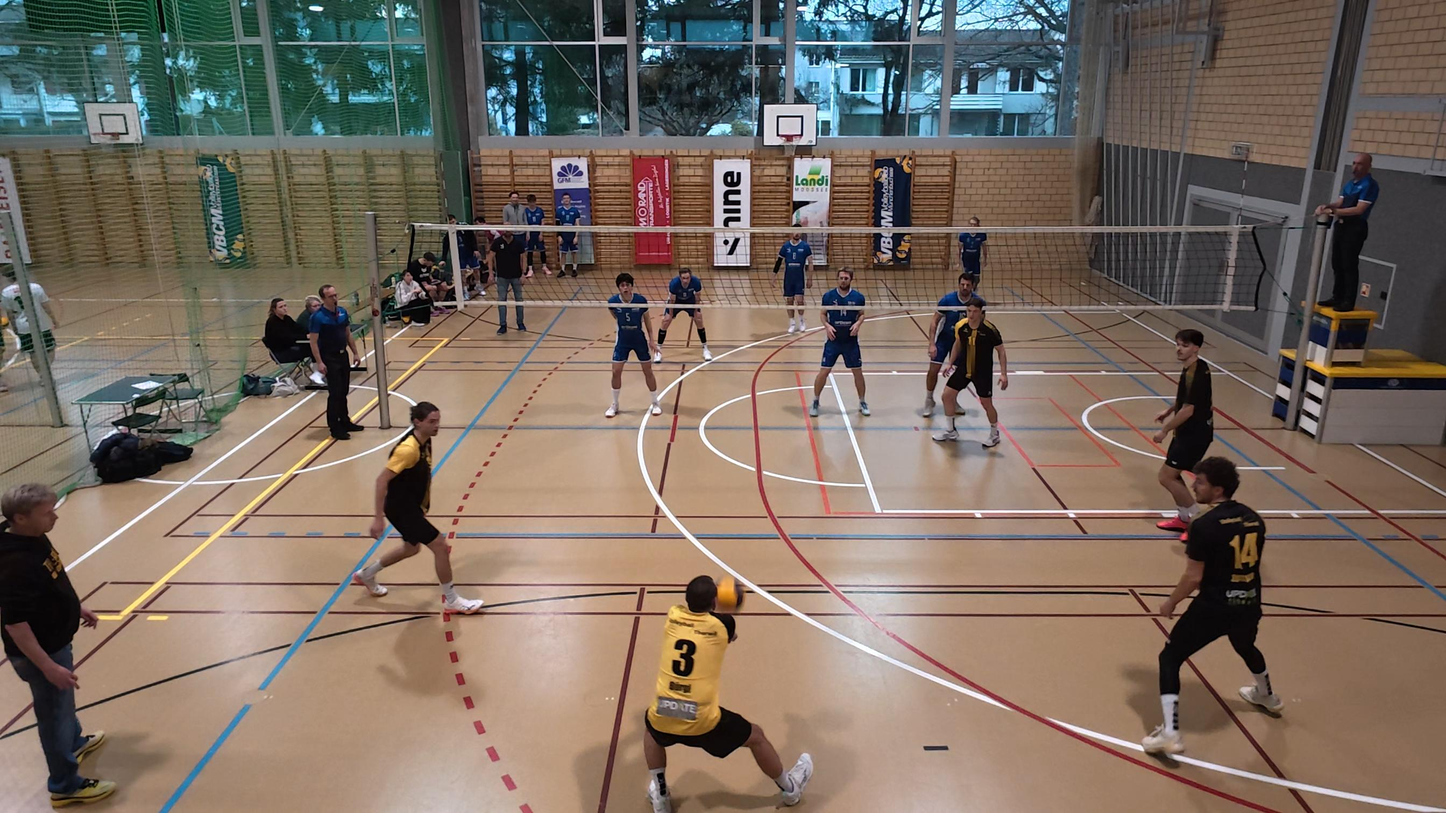ricezione: (641, 573, 816, 812)
